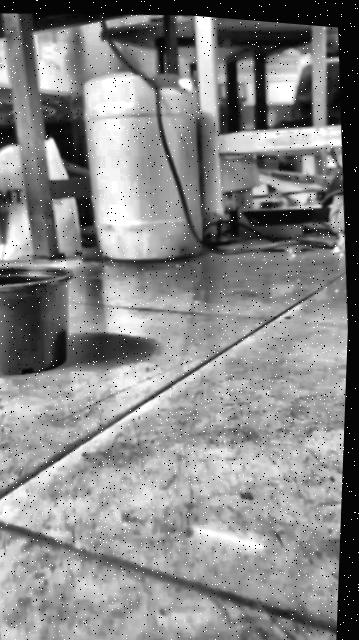pot: (0, 259, 78, 379)
